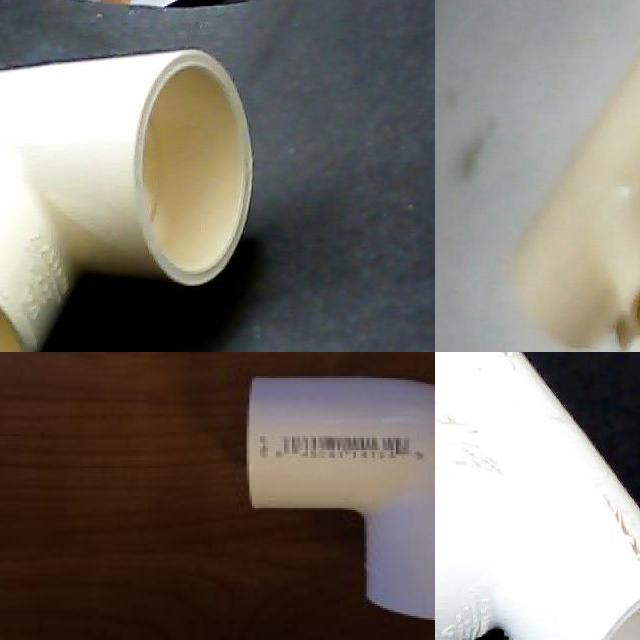Defective: (578, 455, 640, 640), (435, 352, 498, 481), (497, 611, 578, 640), (465, 352, 509, 378)
L Joint: (244, 377, 435, 624)
T Joint: (0, 50, 254, 352), (435, 352, 640, 640), (511, 53, 640, 351)
